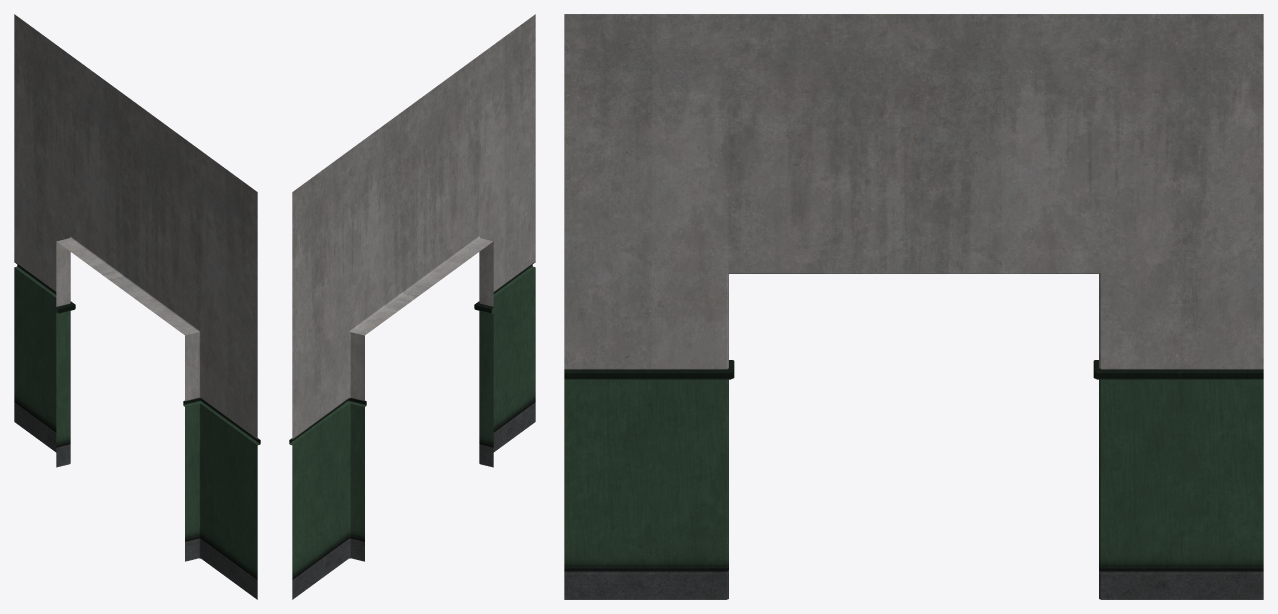
Rendered from Psychiatric_Ward_Infirmary_Wall_4m_Door_B.glb.
The picture shows the model from 3 angles, left to right: view 1: azimuth 30°, elevation 25°; view 2: azimuth 150°, elevation 25°; view 3: azimuth 270°, elevation 25°; orthographic projection. The views are drawn at different scales.
Visible parts, largest first — view 1: Psychiatric_Ward_Infirmary_Wall_4m_Door_B; view 2: Psychiatric_Ward_Infirmary_Wall_4m_Door_B; view 3: Psychiatric_Ward_Infirmary_Wall_4m_Door_B.
Part boxes in pixels (left/top/right/bottom): Psychiatric_Ward_Infirmary_Wall_4m_Door_B: left=14, top=14, right=260, bottom=599; Psychiatric_Ward_Infirmary_Wall_4m_Door_B: left=289, top=14, right=535, bottom=599; Psychiatric_Ward_Infirmary_Wall_4m_Door_B: left=564, top=14, right=1263, bottom=599.
Bounding box in the file's own units: 0.1737 × 3.7 × 4.
1 material, 1 textured.
